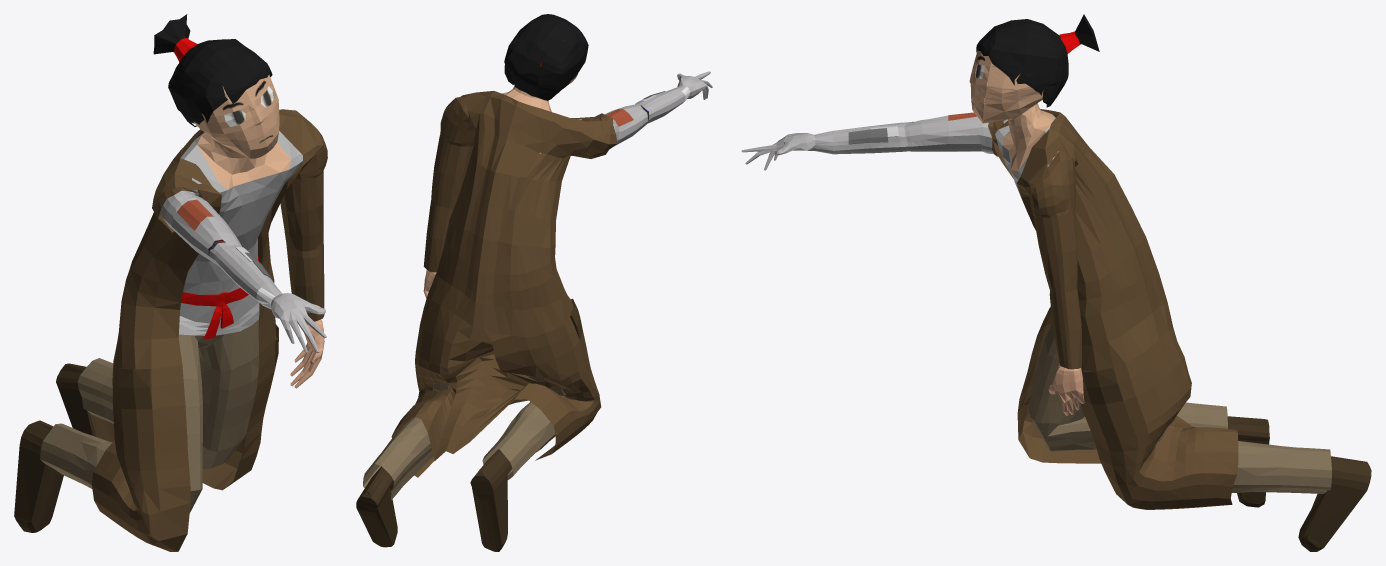
The model's file is One_Die_000040.obj.
3 views of the same model, side by side, from view 1: azimuth 30°, elevation 25°; view 2: azimuth 150°, elevation 25°; view 3: azimuth 270°, elevation 25° (orthographic). The views are drawn at different scales.
Parts seen in each view (by area): view 1: Hair_Cube.004; view 2: Hair_Cube.004; view 3: Hair_Cube.004.
Part boxes in pixels (x1,y1,x2,y2): Hair_Cube.004: (14,14,327,551); Hair_Cube.004: (356,14,712,551); Hair_Cube.004: (741,14,1371,551).
Bounding box in the file's own units: 1.13 × 3.01 × 3.34.
